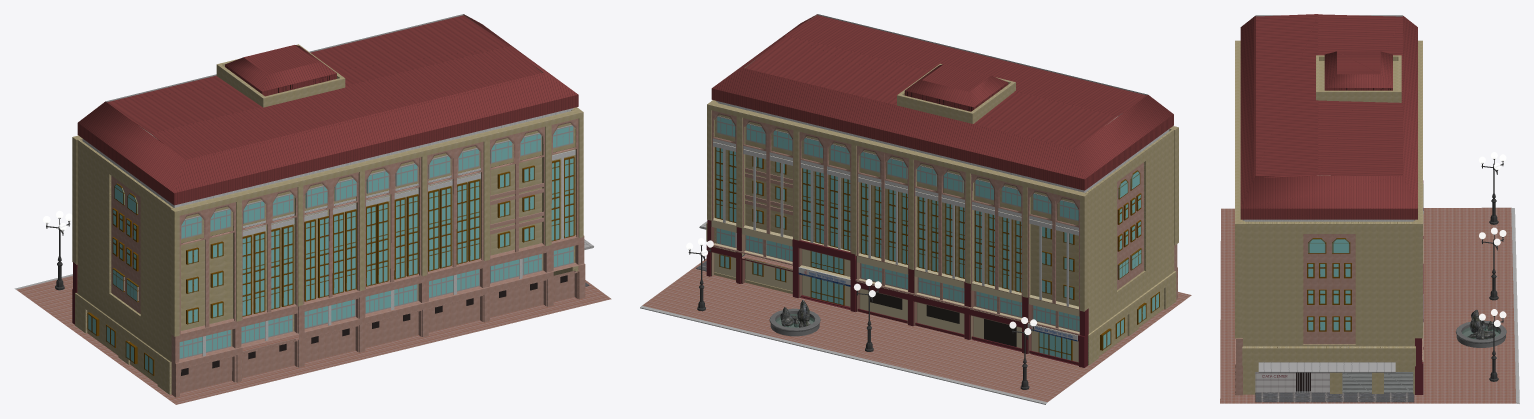
3 views of the same model, side by side, from view 1: azimuth 30°, elevation 25°; view 2: azimuth 150°, elevation 25°; view 3: azimuth 270°, elevation 25° (orthographic). The views are drawn at different scales.
Visible parts, largest first — view 1: DatacenterThuvien(Clone); view 2: DatacenterThuvien(Clone); view 3: DatacenterThuvien(Clone).
Boxes of the visible parts, <box> form: DatacenterThuvien(Clone): <box>14,14,611,404</box>; DatacenterThuvien(Clone): <box>640,14,1191,404</box>; DatacenterThuvien(Clone): <box>1220,14,1519,403</box>.
Bounding box in the file's own units: 2.22 × 1.2 × 1.43.
21 materials, 15 textured.
